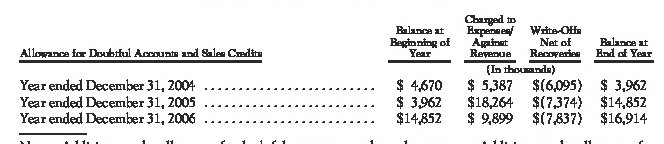table: (0, 0, 664, 144)
